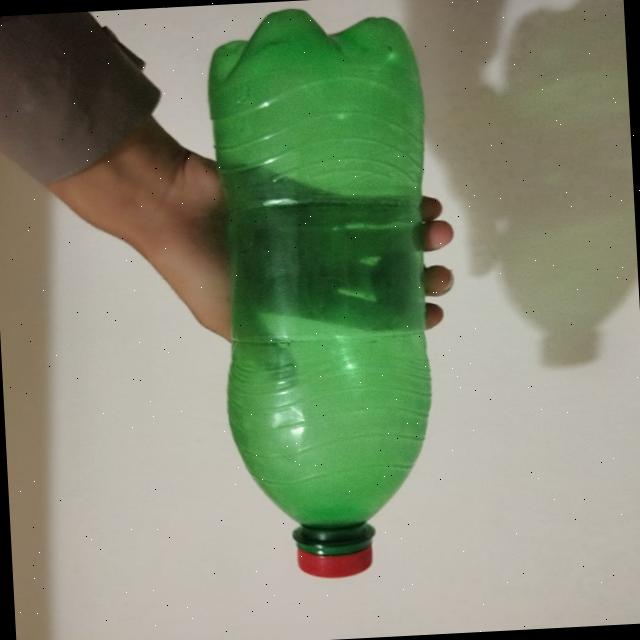bottle: (203, 0, 447, 586)
cap: (296, 538, 374, 580)
